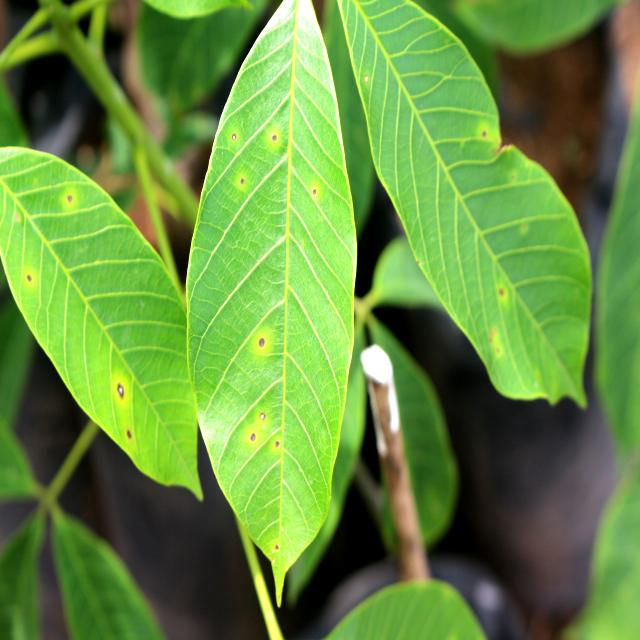Colletotrichum: (117, 384, 124, 397), (250, 433, 256, 441), (260, 338, 264, 347), (260, 413, 264, 420), (232, 134, 236, 140)
